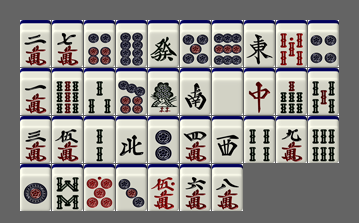0m: (148, 164, 179, 211)
0p: (84, 164, 115, 211)
0s: (276, 20, 307, 67)
1m: (20, 68, 51, 115)
1p: (20, 164, 51, 211)
1s: (148, 68, 179, 115)
1z: (244, 20, 275, 67)
2m: (20, 20, 51, 67)
2p: (148, 116, 179, 163)
2s: (84, 116, 115, 163)
2z: (180, 68, 211, 115)
3m: (20, 116, 51, 163)
3p: (116, 164, 147, 211)
3s: (84, 68, 115, 115)
3z: (212, 116, 243, 163)
4m: (180, 116, 211, 163)
4p: (308, 20, 339, 67)
4s: (244, 116, 275, 163)
4z: (116, 116, 147, 163)
5m: (52, 116, 83, 163)
5p: (180, 20, 211, 67)
5s: (308, 68, 339, 115)
5z: (212, 68, 243, 115)
6m: (180, 164, 211, 211)
6p: (84, 20, 115, 67)
6s: (308, 116, 339, 163)
6z: (148, 20, 179, 67)
7m: (52, 20, 83, 67)
7p: (116, 68, 147, 115)
7s: (276, 68, 307, 115)
7z: (244, 68, 275, 115)
8m: (212, 164, 243, 211)
8p: (116, 20, 147, 67)
8s: (52, 164, 83, 211)
9m: (276, 116, 307, 163)
9p: (212, 20, 243, 67)
9s: (52, 68, 83, 115)
